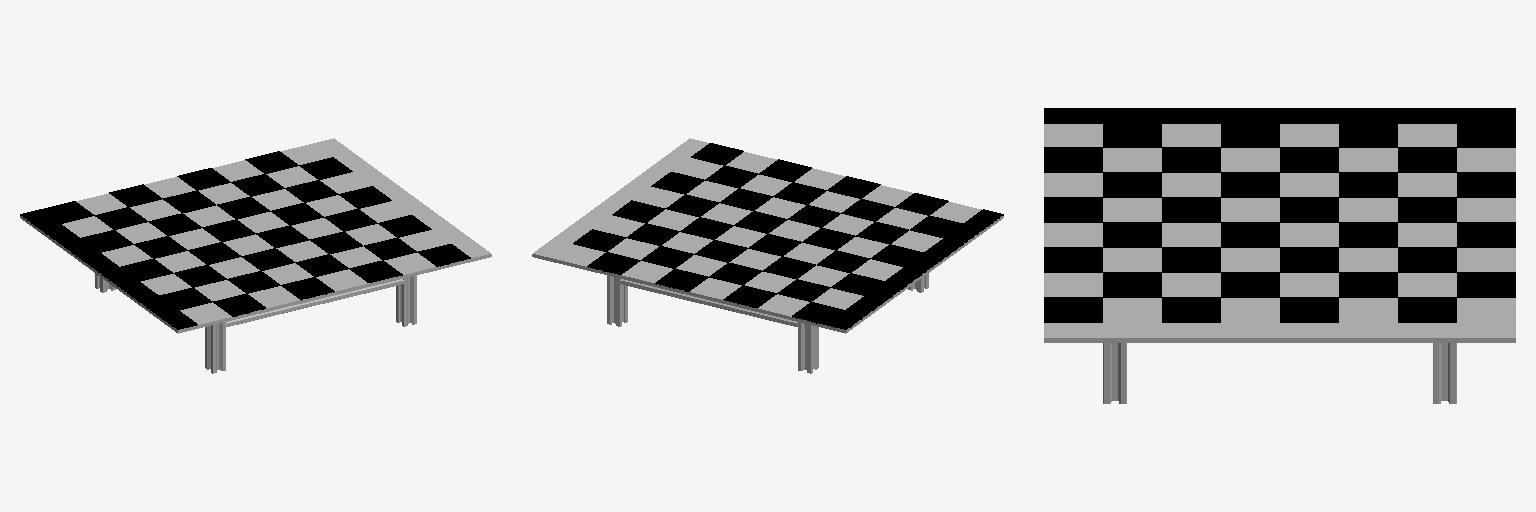
robot.urdf — findchessbot:
<?xml version="1.0" encoding="utf-8"?>
<!-- This URDF was automatically created by SolidWorks to URDF Exporter! Originally created by [author] ([email redacted]) 
     Commit Version: 1.6.0-1-g15f4949  Build Version: 1.6.7594.29634
     For more information, please see http://wiki.ros.org/sw_urdf_exporter -->
<robot
  name="findchessbot">
  <link
    name="base_link">
    <visual>
      <origin
        xyz="0 0 0"
        rpy="0 0 0" />
      <geometry>
        <mesh
          filename="package://findchessbot/base_link.STL" />
      </geometry>
      <material
        name="">
        <color
          rgba="0.752941176470588 0.752941176470588 0.752941176470588 1" />
      </material>
    </visual>
    <collision>
      <origin
        xyz="0 0 0"
        rpy="0 0 0" />
      <geometry>
        <mesh
          filename="package://findchessbot/base_link.STL" />
      </geometry>
    </collision>
  </link>
  
  <link
    name="link_1">
    <inertial>
      <origin
        xyz="-0.0431929949276883 -0.0167696838086873 0.215913559427298"
        rpy="0 0 0" />
      <mass
        value="4.57038820087514" />
      <inertia
        ixx="0.0122265464299465"
        ixy="4.21147542197394E-07"
        ixz="1.99180526350802E-05"
        iyy="0.0133372298042472"
        iyz="2.34384395342257E-06"
        izz="0.0085867023997394" />
    </inertial>
    <visual>
      <origin
        xyz="0 0 0"
        rpy="0 0 0" />
      <geometry>
        <mesh
          filename="package://findchessbot/link_1.STL" />
      </geometry>
      <material
        name="">
        <color
          rgba="0.752941176470588 0.752941176470588 0.752941176470588 1" />
      </material>
    </visual>
    <collision>
      <origin
        xyz="0 0 0"
        rpy="0 0 0" />
      <geometry>
        <mesh
          filename="package://findchessbot/link_1.STL" />
      </geometry>
    </collision>
  </link>


  <joint
    name="joint_1"
    type="revolute">
    <origin
      xyz="0 0 0.101"
      rpy="0 0 0" />
    <parent
      link="base_link" />
    <child
      link="link_1" />
    <axis
      xyz="0 0 1" />
      <limit lower="-1.57" upper="1.57" effort="1.6" velocity="10" />
  </joint>

  <link
    name="link_2">
    <inertial>
      <origin
        xyz="0.169588884134961 0.000287079048425898 0.00493814032653461"
        rpy="0 0 0" />
      <mass
        value="1.68976202819323" />
      <inertia
        ixx="0.000578868076247387"
        ixy="-1.82793365282542E-06"
        ixz="3.45945381408847E-07"
        iyy="0.0094659655681031"
        iyz="6.38868613068616E-07"
        izz="0.00977868856241812" />
    </inertial>
    <visual>
      <origin
        xyz="0 0 0"
        rpy="0 0 0" />
      <geometry>
        <mesh
          filename="package://findchessbot/link_2.STL" />
      </geometry>
      <material
        name="">
        <color
          rgba="0.752941176470588 0.752941176470588 0.752941176470588 1" />
      </material>
    </visual>
    <collision>
      <origin
        xyz="0 0 0"
        rpy="0 0 0" />
      <geometry>
        <mesh
          filename="package://findchessbot/link_2.STL" />
      </geometry>
    </collision>
  </link>

  <joint
    name="joint_2"
    type="prismatic">
    <origin
      xyz="0.013249999999999 0 0.289"
      rpy="0 0 0" />
    <parent
      link="link_1" />
    <child
      link="link_2" />
    <axis
      xyz="0 0 1" />
      <limit lower="-0.1" upper="0" effort="1.6" velocity="10" />
  </joint>
  <link
    name="link_3">
    <inertial>
      <origin
        xyz="0.15471664673548 -5.19428621775786E-06 0.0034905551408036"
        rpy="0 0 0" />
      <mass
        value="0.802329350003151" />
      <inertia
        ixx="0.000293485369809973"
        ixy="-6.26782699018864E-09"
        ixz="1.27148249238739E-07"
        iyy="0.00409323307841445"
        iyz="-4.78551932884101E-08"
        izz="0.00412215164530587" />
    </inertial>
    <visual>
      <origin
        xyz="0 0 0"
        rpy="0 0 0" />
      <geometry>
        <mesh
          filename="package://findchessbot/link_3.STL" />
      </geometry>
      <material
        name="">
        <color
          rgba="0.752941176470588 0.752941176470588 0.752941176470588 1" />
      </material>
    </visual>
    <collision>
      <origin
        xyz="0 0 0"
        rpy="0 0 0" />
      <geometry>
        <mesh
          filename="package://findchessbot/link_3.STL" />
      </geometry>
    </collision>
  </link>
  <joint
    name="joint_3"
    type="revolute">
    <origin
      xyz="0.37 0 0.0649999999999992"
      rpy="0 0 0" />
    <parent
      link="link_2" />
    <child
      link="link_3" />
    <axis
      xyz="0 0 1" />
      <limit lower="-3.14" upper="3.14" effort="0" velocity="10" />
  </joint>
  <link
    name="link_4">
    <inertial>
      <origin
        xyz="7.69925345344147E-05 2.22729360906393E-05 -0.0787289861832771"
        rpy="0 0 0" />
      <mass
        value="0.427295816857813" />
      <inertia
        ixx="0.000121089035690954"
        ixy="9.95625908929604E-08"
        ixz="-3.89978466575397E-07"
        iyy="0.000119966189995005"
        iyz="-7.03773299579463E-09"
        izz="0.000127824456429408" />
    </inertial>
    <visual>
      <origin
        xyz="0 0 0"
        rpy="0 0 0" />
      <geometry>
        <mesh
          filename="package://findchessbot/link_4.STL" />
      </geometry>
      <material
        name="">
        <color
          rgba="0.752941176470588 0.752941176470588 0.752941176470588 1" />
      </material>
    </visual>
    <collision>
      <origin
        xyz="0 0 0"
        rpy="0 0 0" />
      <geometry>
        <mesh
          filename="package://findchessbot/link_4.STL" />
      </geometry>
    </collision>
  </link>
  <joint
    name="joint_4"
    type="revolute">
    <origin
      xyz="0.315000000000002 0 0.000500000000001111"
      rpy="0 0 0" />
    <parent
      link="link_3" />
    <child
      link="link_4" />
    <axis
      xyz="0 0 1" />
      <limit lower="-3.14" upper="3.14" effort="0" velocity="10" />
  </joint>
  <link
    name="chess_board">
    <inertial>
      <origin
        xyz="1.1102E-16 -5.5511E-17 -0.01591"
        rpy="0 0 0" />
      <mass
        value="2.2955" />
      <inertia
        ixx="0.017747"
        ixy="2.9956E-19"
        ixz="-3.1844E-19"
        iyy="0.021703"
        iyz="2.6072E-18"
        izz="0.039234" />
    </inertial>
    <visual>
      <origin
        xyz="0 0 0"
        rpy="0 0 0" />
      <geometry>
        <mesh
          filename="package://findchessbot/chessboard.STL" />
      </geometry>
      <material
        name="">
        <color
        rgba="0.752941176470588 0.752941176470588 0.752941176470588 1" />
      </material>
    </visual>
    <collision>
      <origin
        xyz="0 0 0"
        rpy="0 0 0" />
      <geometry>
        <mesh
          filename="package://findchessbot/chessboard.STL" />
      </geometry>
    </collision>
  </link>


  <joint
    name="joint_chess"
    type="revolute">
    <origin
      xyz="0.42744 -0.00059371 0.099999"
      rpy="0 0 0" />
    <parent
      link="base_link" />
    <child
      link="chess_board" />
    <axis
      xyz="0 0 1" />
      <limit lower="-6.28" upper="6.28" effort="0" velocity="10" />
  </joint>

  
  <link
    name="chess_board_black">
    <visual>
      <origin
        xyz="0 0 0.001"
        rpy="0 0 0" />
      <geometry>
        <mesh
          filename="package://findchessbot/chessboard_black.STL" />
      </geometry>
      <material
        name="">
        <color
          rgba="0 0 0 1" />
      </material>
    </visual>
    <collision>
      <origin
        xyz="0 0 0"
        rpy="0 0 0" />
      <geometry>
        <mesh
          filename="package://findchessbot/chessboard_black.STL" />
      </geometry>
    </collision>
  </link>

  <joint
  name="joint_chess_black"
  type="fixed">
  <parent
    link="chess_board" />
  <child
    link="chess_board_black" />
</joint>

</robot>

--- What the picture shows (computed from the rendered views, not written in the file) ---
3 views of the same robot in one strip: view 1: azimuth 30°, elevation 25°; view 2: azimuth 150°, elevation 25°; view 3: azimuth 270°, elevation 25° (orthographic).
Robot: findchessbot — 7 links, 6 joints (4 revolute, 1 prismatic, 1 fixed); root link base_link; default pose: every joint at zero.
Links seen in each view (by area): view 1: chess_board, chess_board_black; view 2: chess_board, chess_board_black; view 3: chess_board, chess_board_black.
Link boxes in pixels (x1=…): chess_board: x1=20, y1=138, x2=491, y2=373; chess_board_black: x1=20, y1=151, x2=470, y2=329; chess_board: x1=532, y1=138, x2=1003, y2=373; chess_board_black: x1=573, y1=143, x2=1003, y2=329; chess_board: x1=1044, y1=124, x2=1515, y2=403; chess_board_black: x1=1044, y1=108, x2=1515, y2=322.
Bounding box of the posed robot: 0.46 × 0.4 × 0.101 m (x, y, z).
2 mesh visuals loaded from 7 distinct referenced files (2 binary STL); not drawn: 5 (reference not matched to a file when rendering).